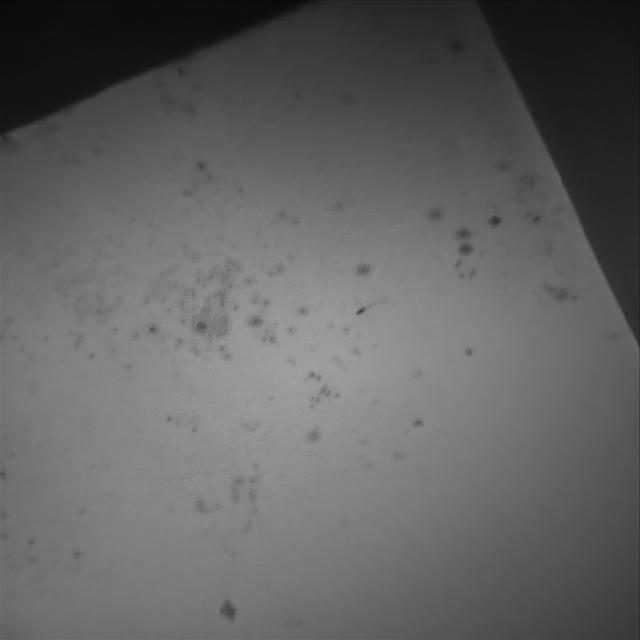stain marks: (0, 5, 617, 640)
